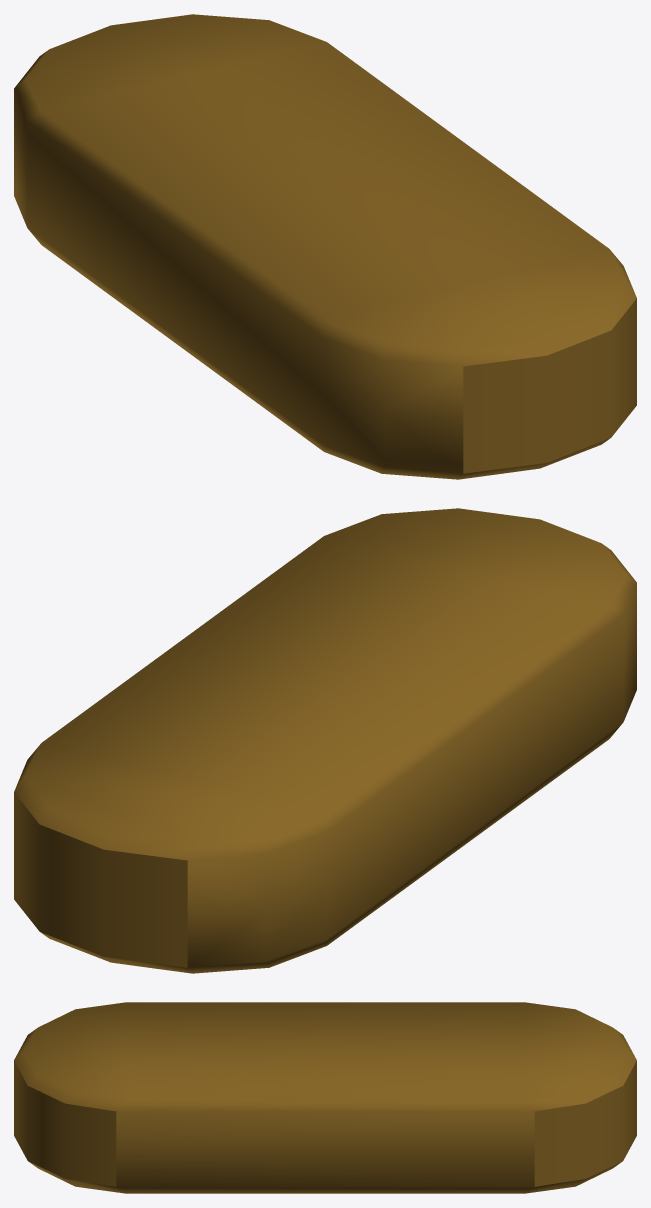
The model's file is SM_Pill03.fbx.
3 views of the same model, one above another, from view 1: azimuth 30°, elevation 25°; view 2: azimuth 150°, elevation 25°; view 3: azimuth 270°, elevation 25° (orthographic). The views are drawn at different scales.
Visible parts, largest first — view 1: SM_Pill03; view 2: SM_Pill03; view 3: SM_Pill03.
Boxes of the visible parts, x1,y1,x2,y2 form: SM_Pill03: [14, 14, 636, 479]; SM_Pill03: [14, 508, 636, 973]; SM_Pill03: [14, 1002, 636, 1193].
Size of the model in its own units: 0.5174 by 0.221 by 1.33.
